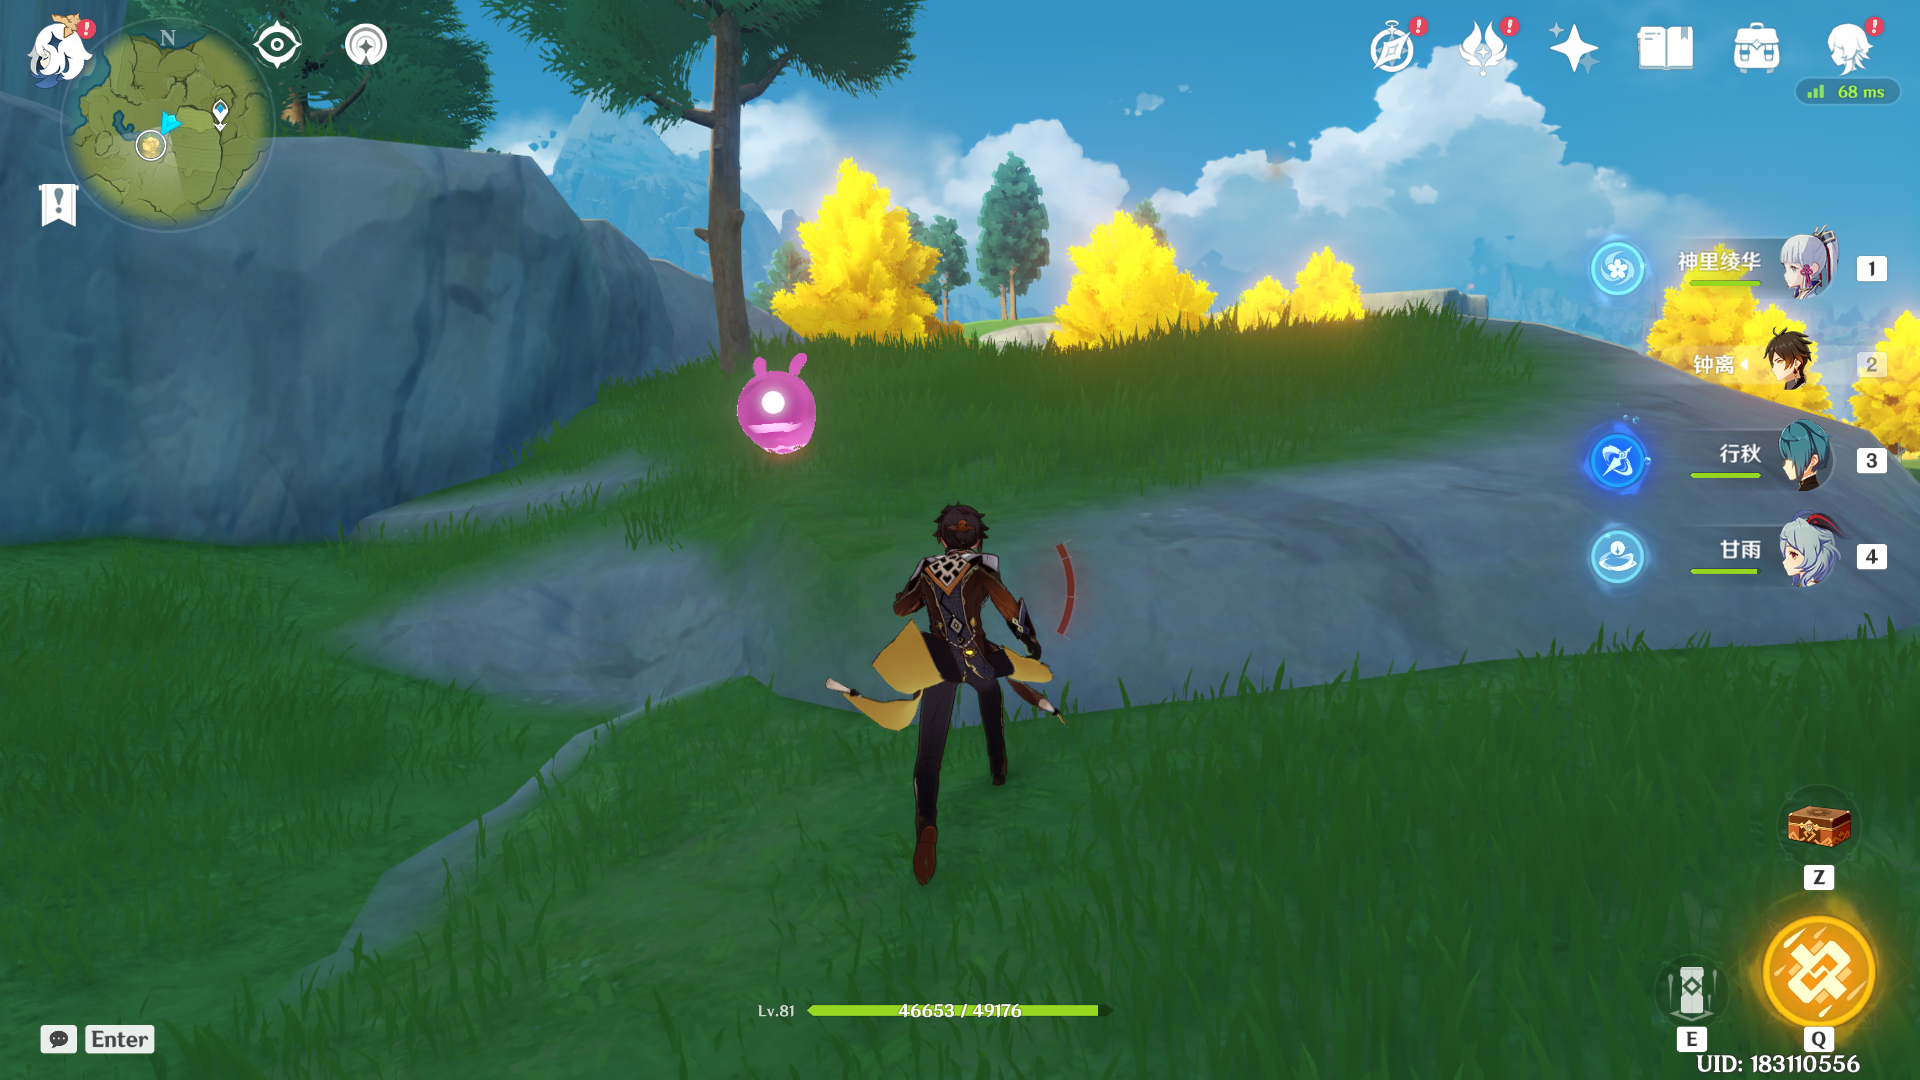character: (843, 464, 1091, 889)
